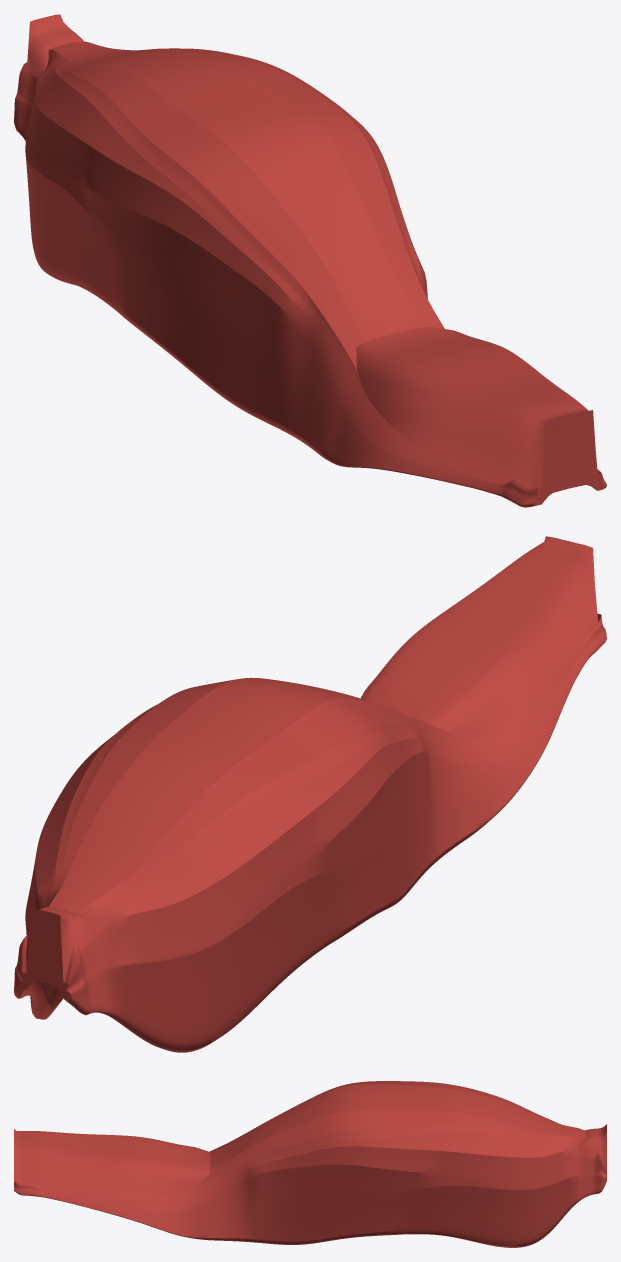
Rendered from adventure_1.glb.
The picture shows the model from 3 angles, top to bottom: view 1: azimuth 30°, elevation 25°; view 2: azimuth 150°, elevation 25°; view 3: azimuth 270°, elevation 25°; orthographic projection. The views are drawn at different scales.
Visible parts, largest first — view 1: lod0; view 2: lod0; view 3: lod0.
Part boxes in pixels (x1=…): lod0: x1=14, y1=14, x2=606, y2=507; lod0: x1=14, y1=536, x2=606, y2=1052; lod0: x1=14, y1=1081, x2=606, y2=1247.
Size of what is drawn, in the model's own units: 0.4471 by 0.4096 by 1.7.
